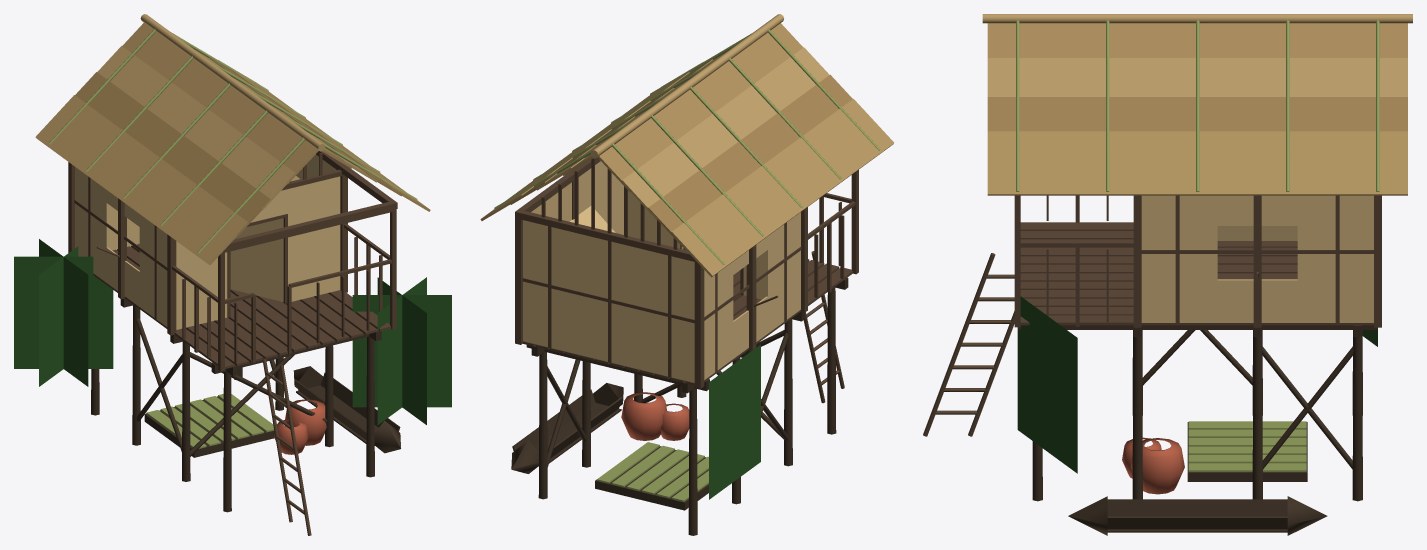
File: stilt-house.glb
The picture shows the model from 3 angles, left to right: view 1: azimuth 30°, elevation 25°; view 2: azimuth 150°, elevation 25°; view 3: azimuth 270°, elevation 25°; orthographic projection. The views are drawn at different scales.
Visible parts, largest first — view 1: Mesh_ThatchR_3, Mesh_Foliage_BackRight, Mesh_Foliage_FrontLeft, Mesh_ThatchR_1, Mesh_ThatchR_2, Mesh_ThatchR_0, Mesh_WallFront_L, Mesh_DoorLeaf, Mesh_WallR_Back, Mesh_WallFront_R, Mesh_WallR_Front, Mesh_RoofRidgeCap (+46 smaller); view 2: Mesh_WallBack, Mesh_ThatchR_3, Mesh_ThatchR_1, Mesh_ThatchR_2, Mesh_ThatchR_0, Mesh_Foliage_BackRight, Mesh_WallR_Front, Mesh_WallR_Back, Mesh_RoofRidgeCap, Mesh_Plate_Back, Mesh_RainJar_1, Mesh_WallL_Front (+38 smaller); view 3: Mesh_ThatchL_3, Mesh_ThatchL_1, Mesh_ThatchL_0, Mesh_ThatchL_2, Mesh_WallL_Back, Mesh_WallL_Front, Mesh_Foliage_FrontLeft, Mesh_RoofRidgeCap, Mesh_Boat_Wall_R, Mesh_WallL_Bot, Mesh_Boat_Wall_L, Mesh_WallL_Top (+46 smaller).
Boxes of the visible parts, <box> form: Mesh_ThatchR_3: <box>35,95,248,265</box>; Mesh_Foliage_BackRight: <box>14,239,113,386</box>; Mesh_Foliage_FrontLeft: <box>352,277,451,424</box>; Mesh_ThatchR_1: <box>97,46,295,209</box>; Mesh_ThatchR_2: <box>75,72,270,235</box>; Mesh_ThatchR_0: <box>122,23,318,183</box>; Mesh_WallFront_L: <box>286,176,340,301</box>; Mesh_DoorLeaf: <box>230,218,283,301</box>; Mesh_WallR_Back: <box>75,167,107,282</box>; Mesh_WallFront_R: <box>176,241,227,329</box>; Mesh_WallR_Front: <box>139,214,167,326</box>; Mesh_RoofRidgeCap: <box>140,14,325,151</box>; Mesh_WallBack: <box>523,220,694,382</box>; Mesh_ThatchR_3: <box>671,99,893,277</box>; Mesh_ThatchR_1: <box>621,47,829,219</box>; Mesh_ThatchR_2: <box>648,74,852,246</box>; Mesh_ThatchR_0: <box>597,23,803,191</box>; Mesh_Foliage_BackRight: <box>709,344,760,499</box>; Mesh_WallR_Front: <box>766,212,800,333</box>; Mesh_WallR_Back: <box>704,262,733,379</box>; Mesh_RoofRidgeCap: <box>590,14,783,157</box>; Mesh_Plate_Back: <box>515,209,697,262</box>; Mesh_RainJar_1: <box>621,392,666,440</box>; Mesh_WallL_Front: <box>591,161,623,234</box>; Mesh_ThatchL_3: <box>987,131,1407,195</box>; Mesh_ThatchL_1: <box>987,58,1407,96</box>; Mesh_ThatchL_0: <box>987,23,1407,57</box>; Mesh_ThatchL_2: <box>987,97,1407,131</box>; Mesh_WallL_Back: <box>1297,195,1373,322</box>; Mesh_WallL_Front: <box>1141,195,1217,322</box>; Mesh_Foliage_FrontLeft: <box>1017,296,1077,473</box>; Mesh_RoofRidgeCap: <box>982,14,1412,23</box>; Mesh_Boat_Wall_R: <box>1107,499,1287,516</box>; Mesh_WallL_Bot: <box>1217,279,1297,322</box>; Mesh_Boat_Wall_L: <box>1107,516,1287,529</box>; Mesh_WallL_Top: <box>1217,195,1297,225</box>.
Bounding box in the file's own units: 4.04 × 5.01 × 4.9.
